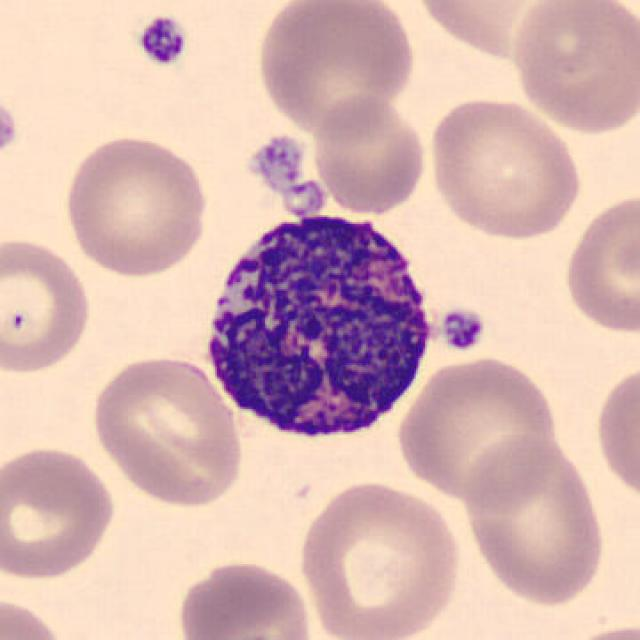Basophil: (194, 199, 448, 452)
Platelets: (245, 132, 311, 190), (134, 12, 190, 69), (437, 304, 489, 354), (0, 100, 21, 160)
RBC: (293, 476, 466, 640), (458, 432, 610, 608), (393, 353, 563, 506), (85, 351, 247, 511), (425, 94, 585, 242), (252, 0, 419, 139), (58, 130, 212, 280), (507, 0, 638, 138), (0, 441, 121, 584), (310, 92, 430, 217), (0, 233, 96, 377), (172, 555, 318, 640), (558, 188, 638, 336), (409, 0, 579, 60), (458, 430, 562, 515), (592, 358, 638, 509), (0, 592, 71, 640), (548, 617, 638, 640)
